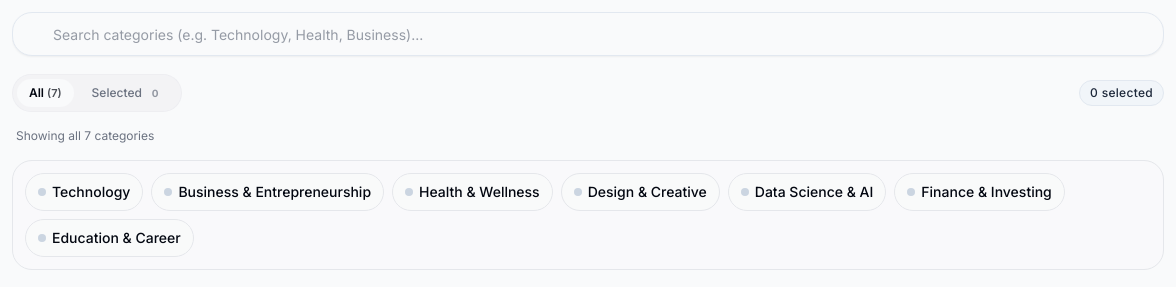
Test: CategorySelector Component Integration › filters available categories immediately while typing (case-insensitive)
The width and height of the screenshot is (1176, 287).
Type "tech" into the field labelled "Search categories (e.g. Technology, Health, Business)..." at (588, 34), box left=12, top=12, right=1164, bottom=56
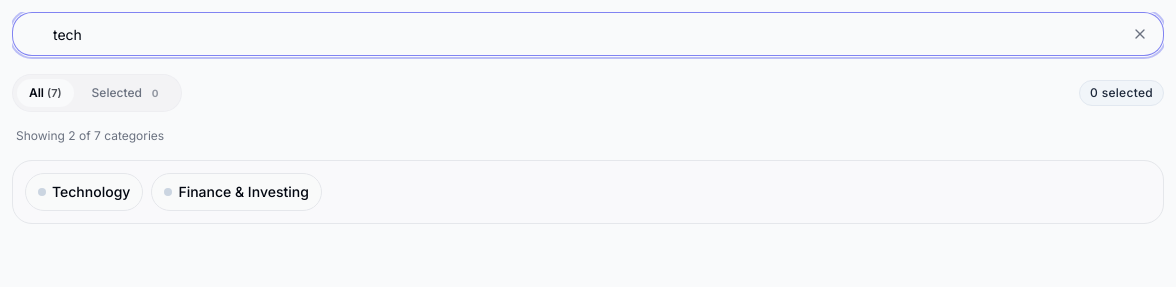
Expected: the text "Technology" is shown, left=52, top=182, right=130, bottom=202
Expected: the button "Health & Wellness" is gone
